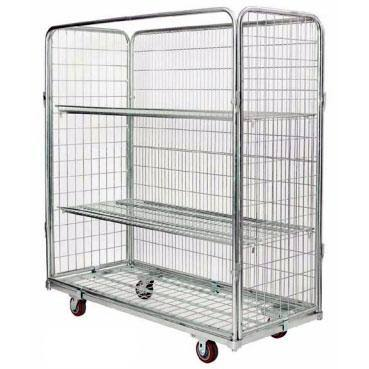Carts: (40, 6, 326, 363)
